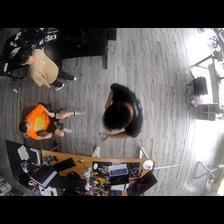normal: (14, 49, 78, 93), (101, 83, 144, 142), (18, 105, 81, 139)
